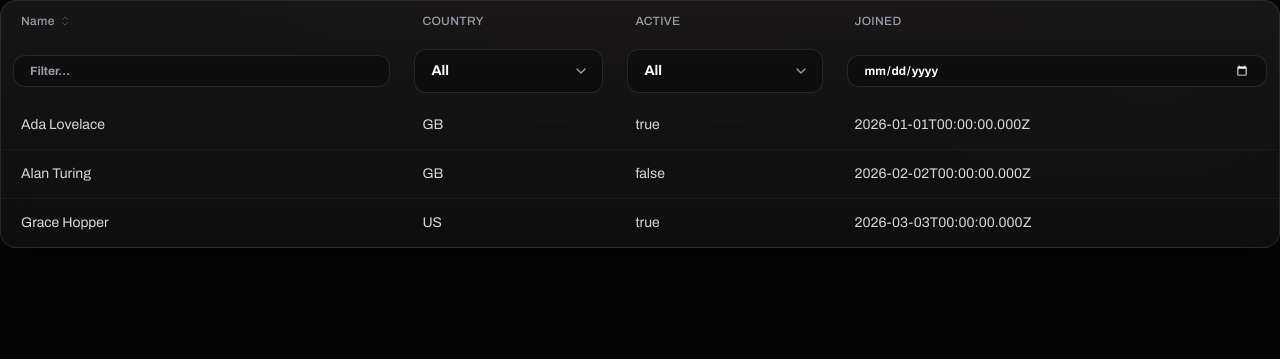
DataTable › shows empty state when no rows match
The image size is (1280, 359).
Type "zzz" into the field named "Filter Name". click: (202, 71)
box: [13,55,390,87]
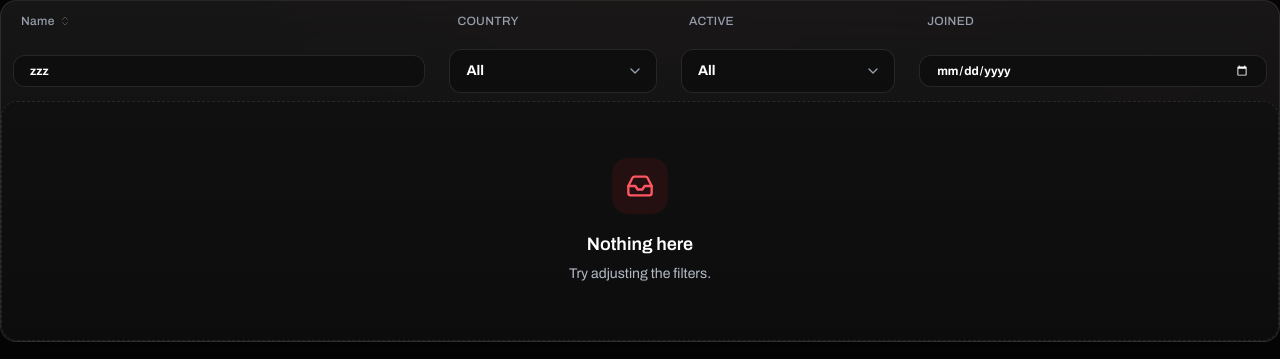
Expected: the heading "Nothing here" is shown, [587,230,693,258]
